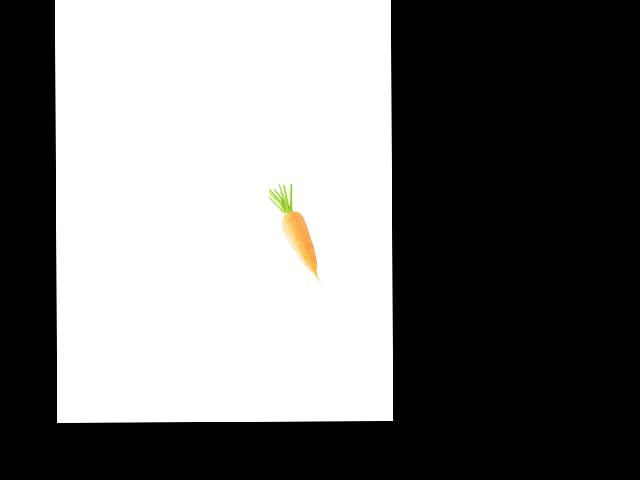carrot: (278, 222, 320, 283)
